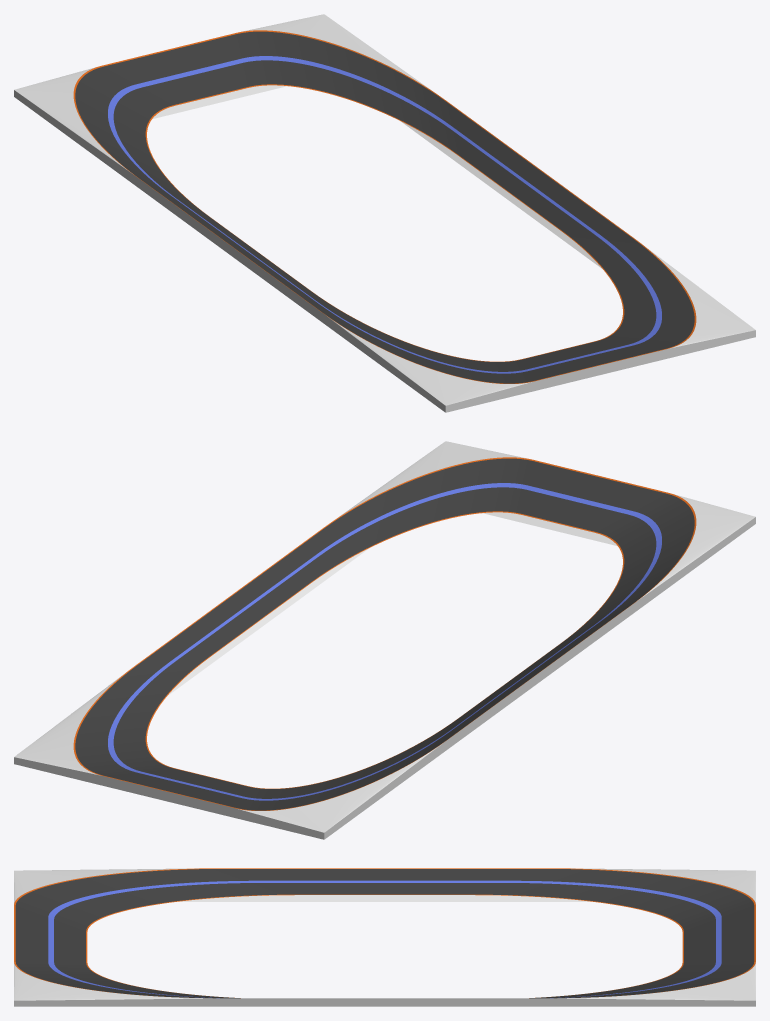
Rendered from tempoval.fbx.
The picture shows the model from 3 angles, top to bottom: view 1: azimuth 30°, elevation 25°; view 2: azimuth 150°, elevation 25°; view 3: azimuth 270°, elevation 25°; orthographic projection. The views are drawn at different scales.
Visible parts, largest first — view 1: Oval; view 2: Oval; view 3: Oval.
Part boxes in pixels (x1,y1,x2,y2): Oval: (14, 14, 755, 412); Oval: (14, 441, 755, 839); Oval: (14, 868, 755, 1006).
Size of the model in its own units: 2153 by 160 by 5187.
